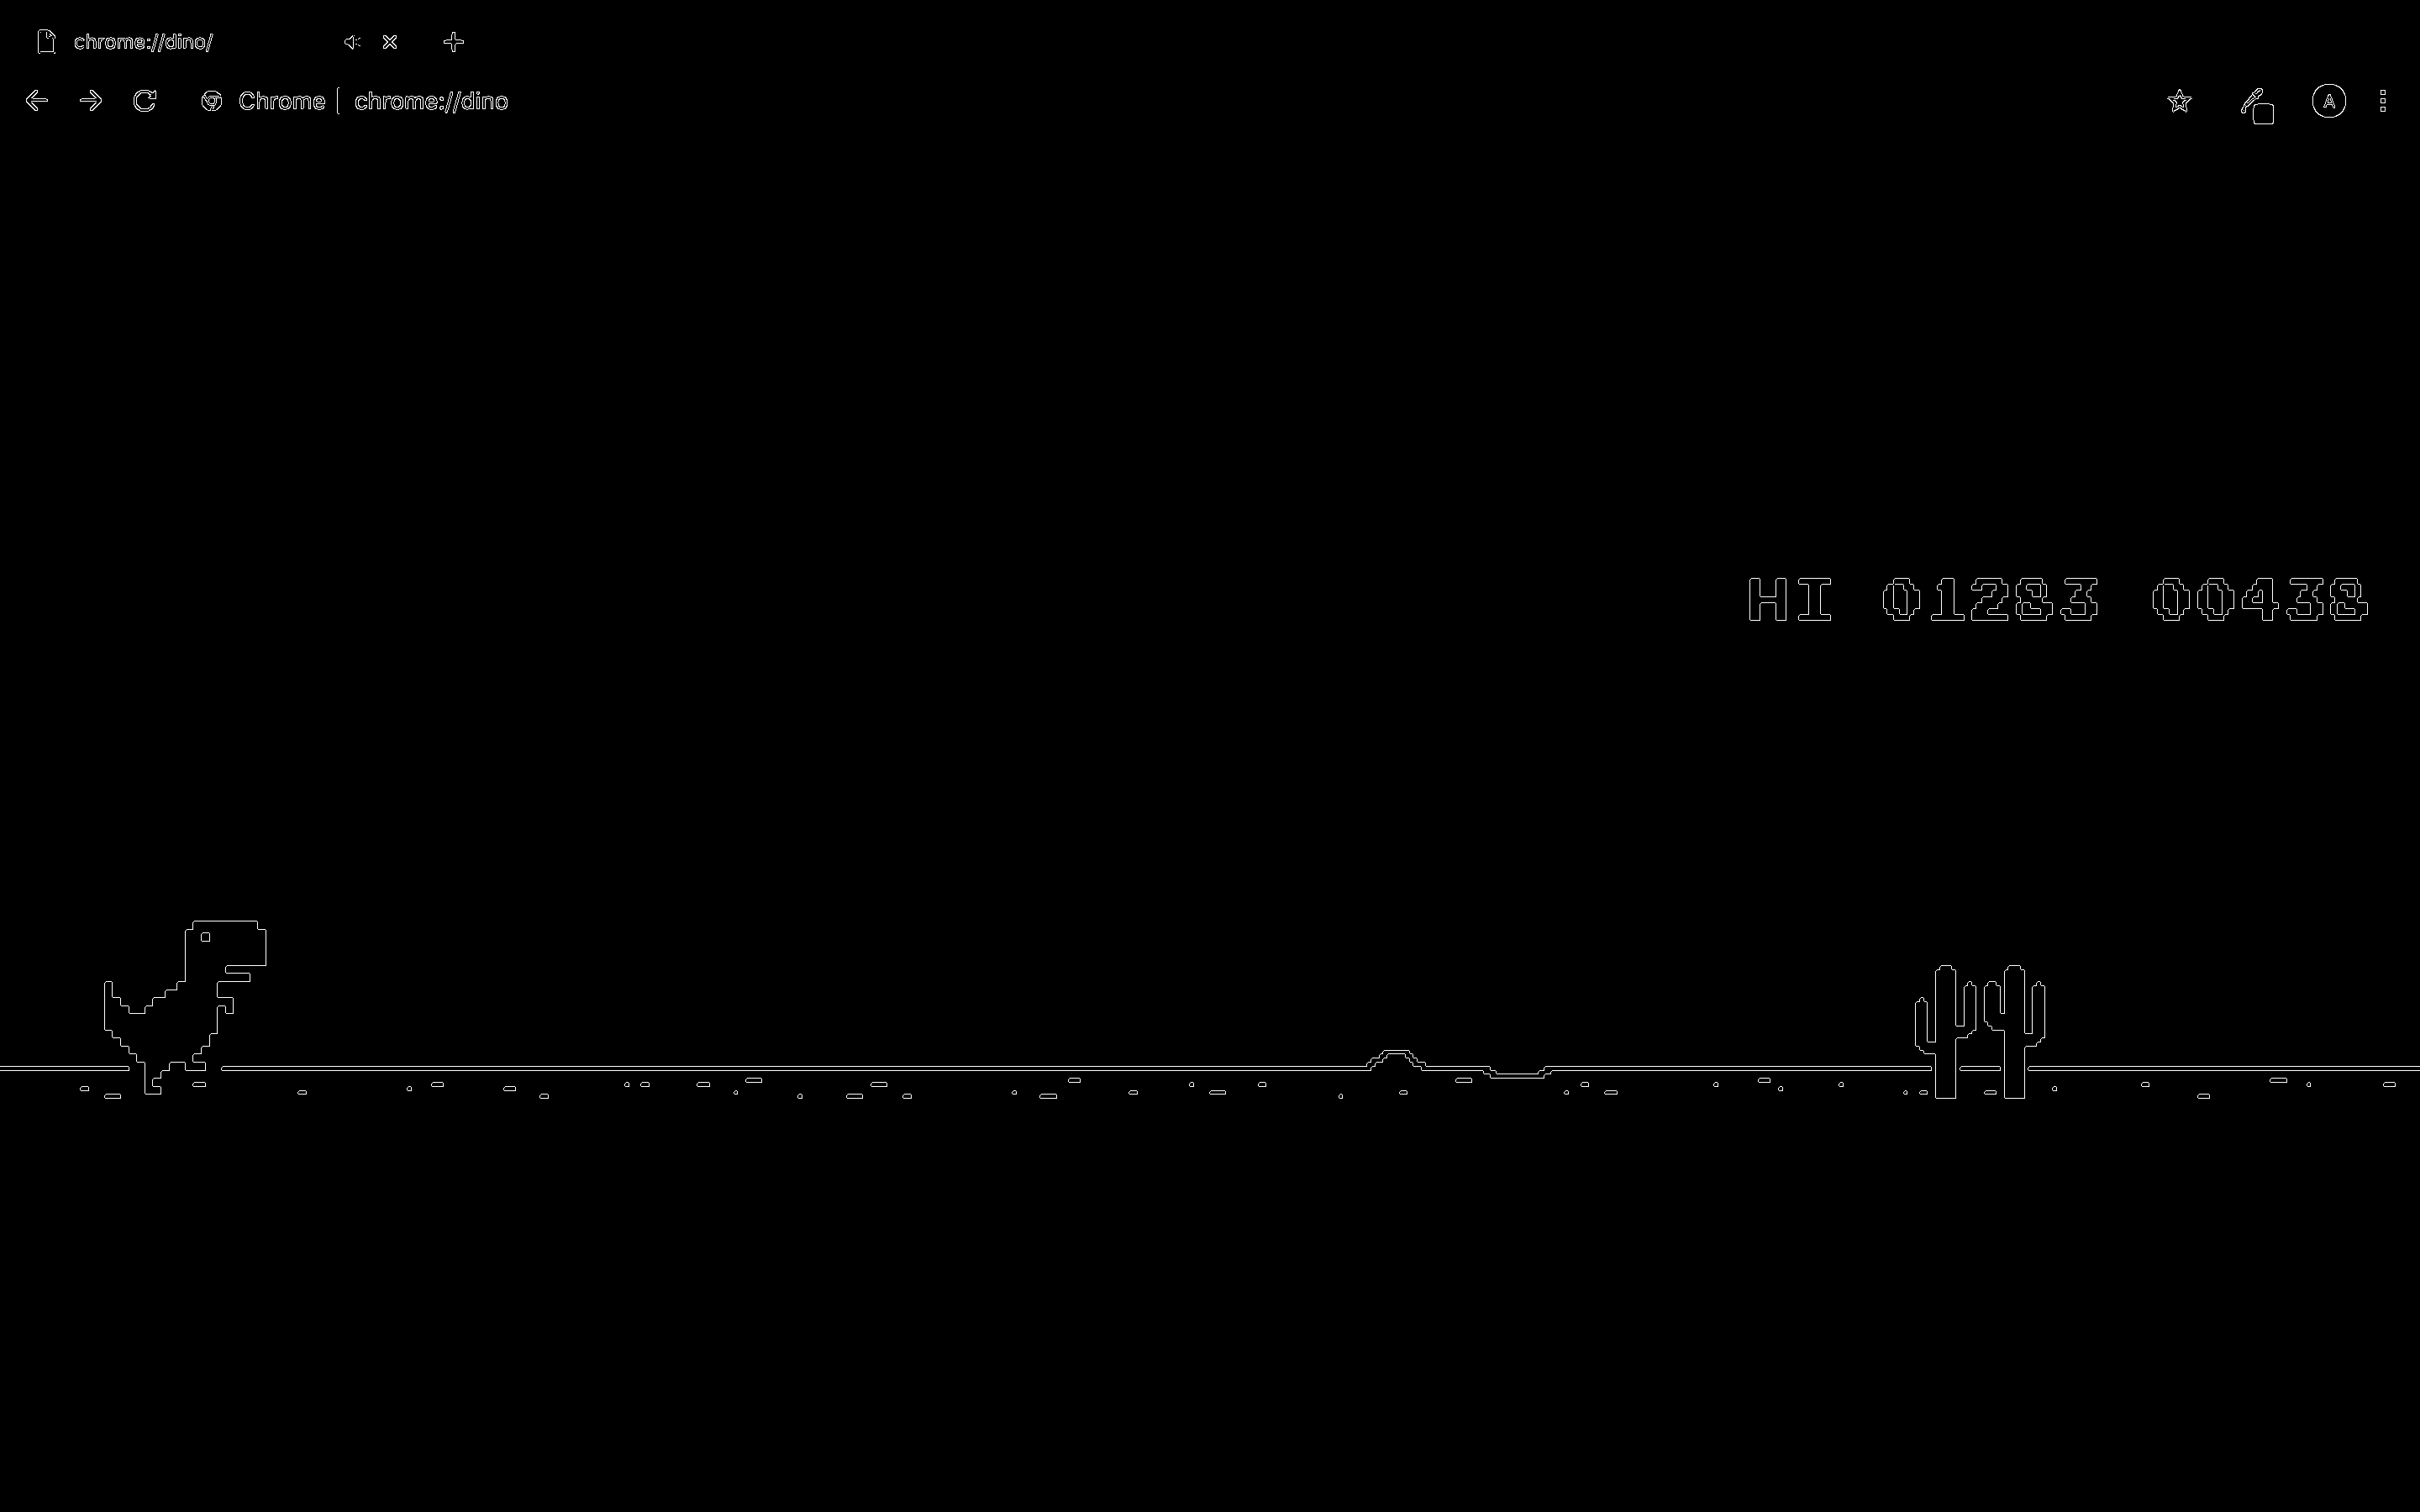Cactus: (1910, 963, 1983, 1103), (1984, 963, 2051, 1108)
Dino: (101, 921, 277, 1090)
